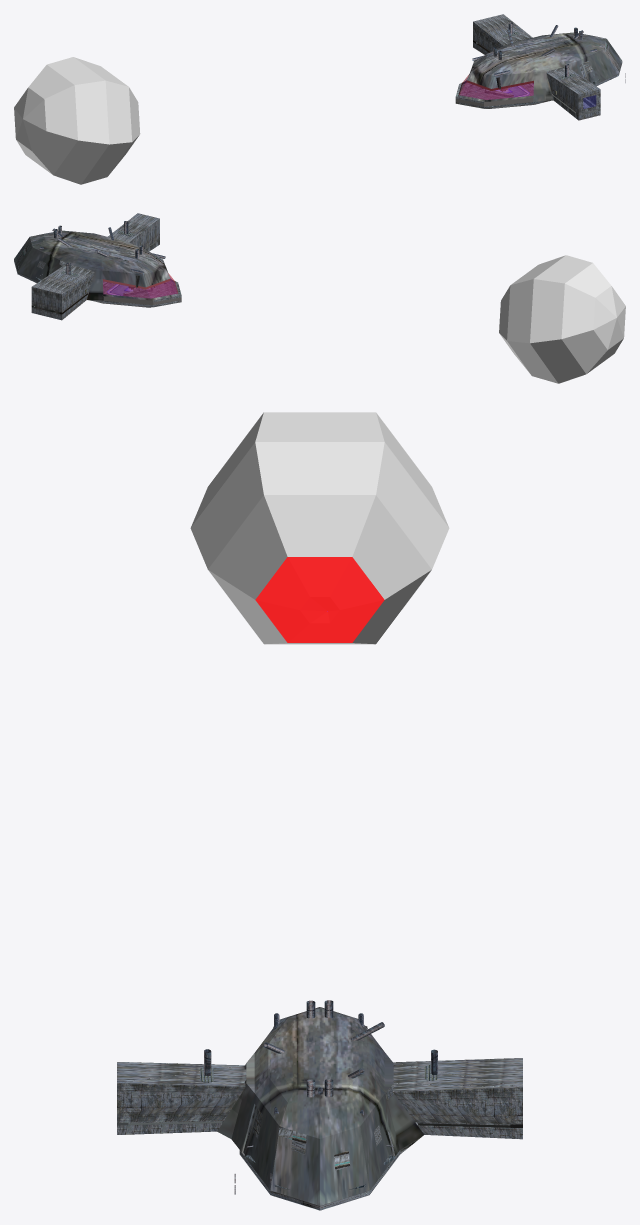
Rendered from ship-compressed.gltf.
3 renders of one model, top to bottom at view 1: azimuth 30°, elevation 25°; view 2: azimuth 150°, elevation 25°; view 3: azimuth 270°, elevation 25°, orthographic. The views are drawn at different scales.
Parts seen in each view (by area): view 1: Sphere.001, ship; view 2: Sphere.001, ship; view 3: Sphere.001, ship.
Part boxes in pixels (box(x1,y1,x2,y2)): Sphere.001: box(14, 57, 140, 184); ship: box(455, 14, 622, 120); Sphere.001: box(499, 255, 625, 383); ship: box(14, 213, 181, 320); Sphere.001: box(190, 412, 449, 644); ship: box(117, 1007, 522, 1210).
Bounding box in the file's own units: 121 × 24.95 × 35.48.
Materials: 37 (28 with a texture image).
